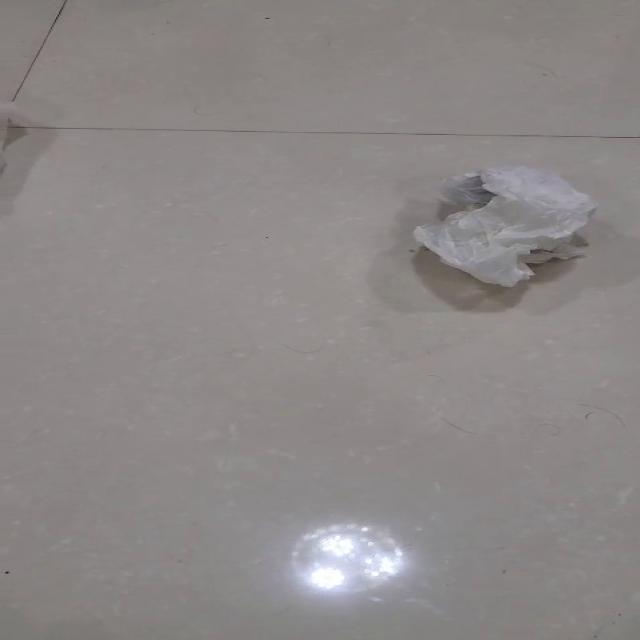plastic: (411, 164, 597, 288)
